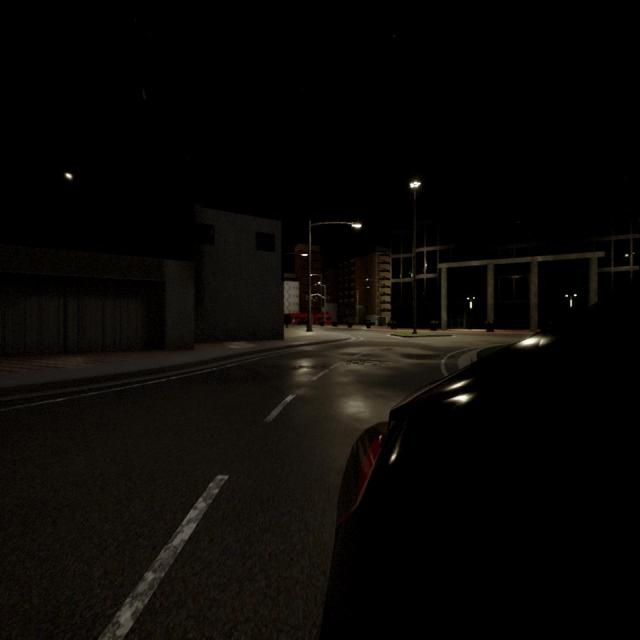Vehicle: (328, 314, 639, 638)
traffic_light: (316, 296, 318, 300)
